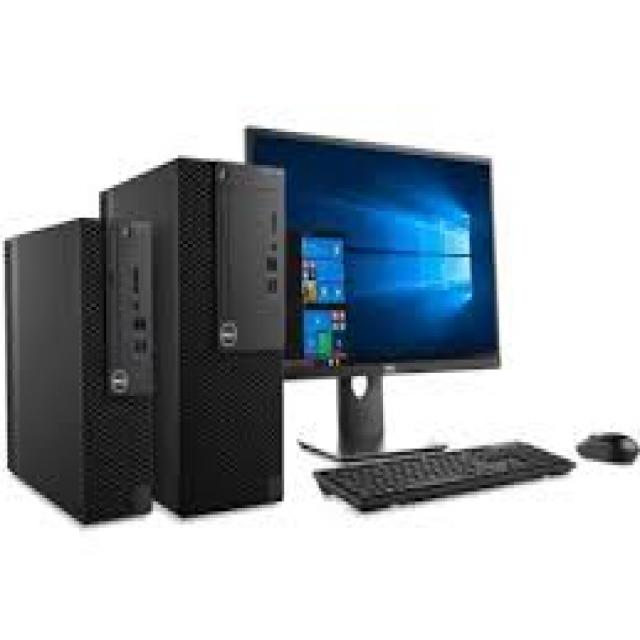Computer: (0, 211, 157, 537), (154, 153, 288, 521)
Monitor: (247, 122, 504, 372)
